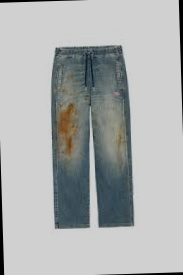earth: (57, 103, 78, 156)
